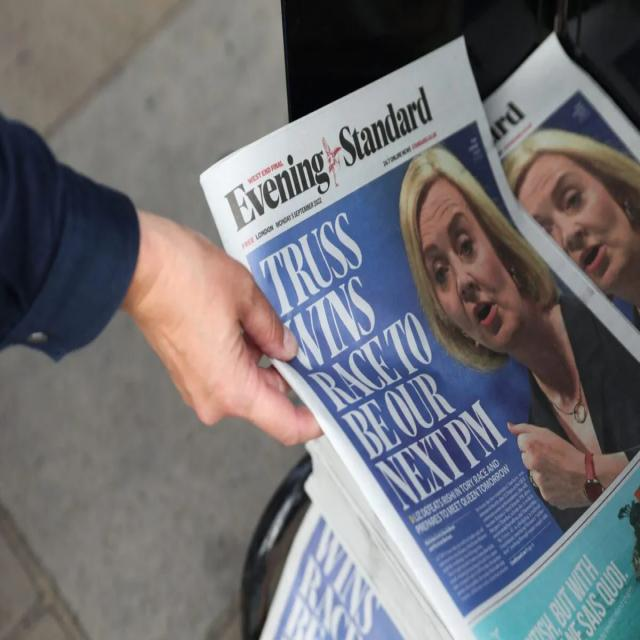newspaper: (212, 61, 640, 640)
